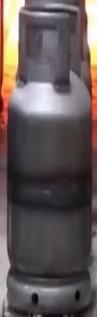cylinder: (1, 1, 97, 317)
